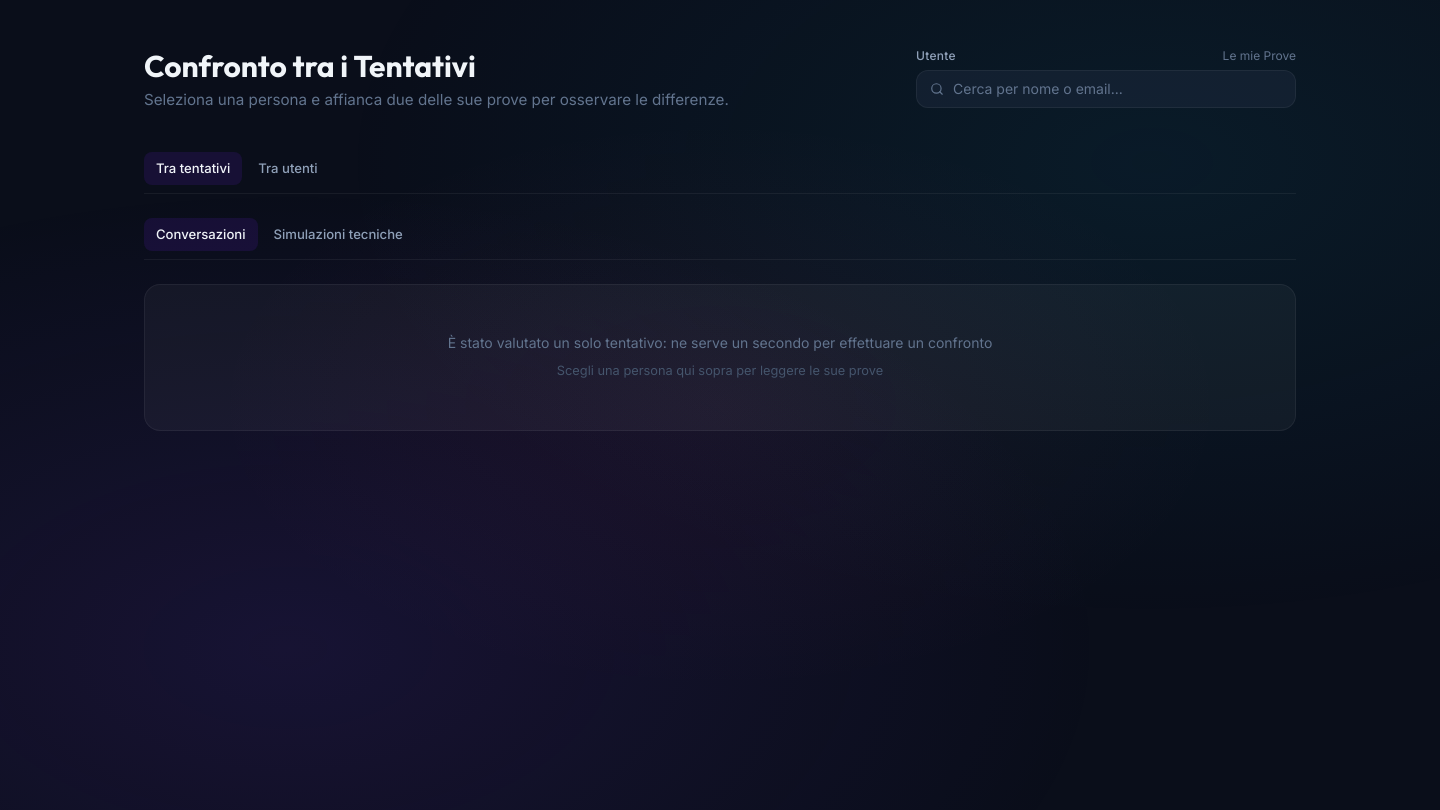
Test: scelta della persona › un admin cerca fra le persone del proprio tenant
Check: the text "Seleziona una persona" is shown, box [144,90,729,109]
Click the dropdown.
click(1106, 89)  # box [916,70,1296,108]
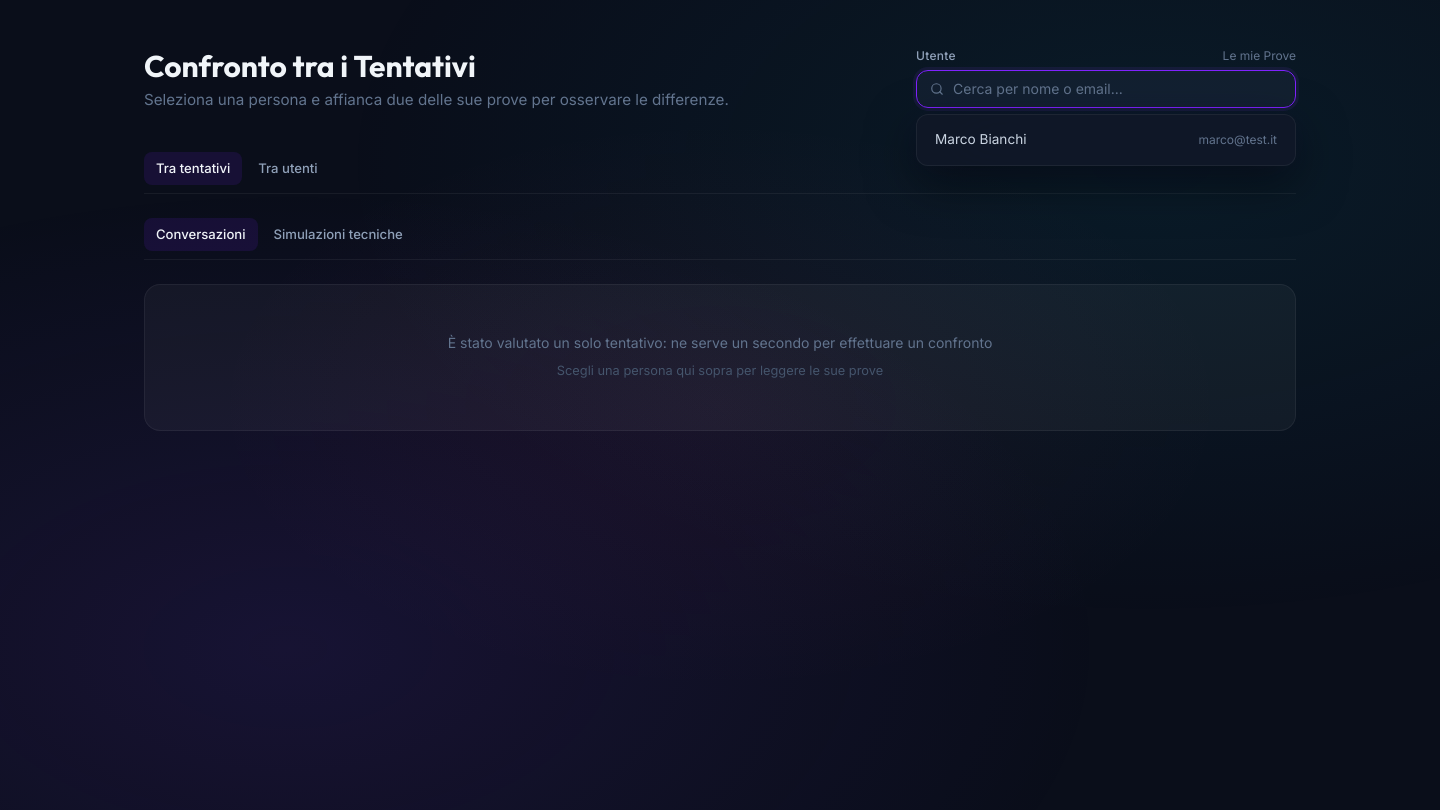
Check: the option "Marco Bianchi marco@test.it" is shown, box [935,131,1277,147]
